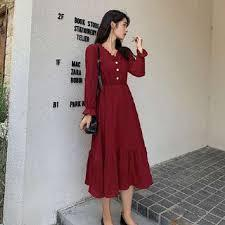dress: (70, 39, 157, 199)
